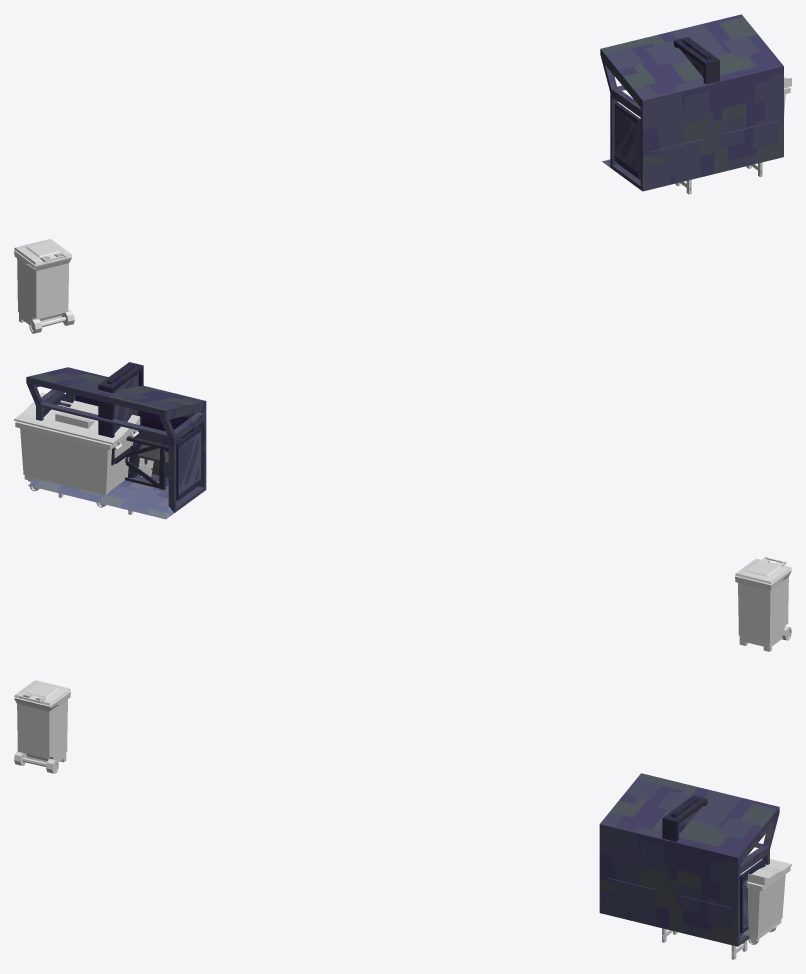
The model's file is panneau pub 1.fbx.
The picture shows the model from 3 angles, top to bottom: view 1: azimuth 30°, elevation 25°; view 2: azimuth 150°, elevation 25°; view 3: azimuth 330°, elevation 25°; orthographic projection. The views are drawn at different scales.
Visible parts, largest first — view 1: Cube.002, Cube.013, Cube.006; view 2: Cube.002, Cube.008, Cube.013, Cube.006, Cube.001; view 3: Cube.002, Cube.013, Cube.008, Cube.006.
Boxes of the visible parts, x1,y1,x2,y2 form: Cube.002: (600,14,783,191); Cube.013: (14,239,71,324); Cube.006: (673,37,719,84); Cube.002: (26,367,206,519); Cube.008: (14,392,140,495); Cube.013: (735,556,791,651); Cube.006: (98,362,143,465); Cube.001: (125,436,168,489); Cube.002: (599,773,779,946); Cube.013: (14,680,70,762); Cube.008: (740,853,791,940); Cube.006: (662,795,707,841).
Bounding box in the file's own units: 1699 × 293 × 164.
